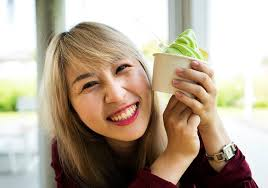asian_female: (40, 17, 164, 147)
